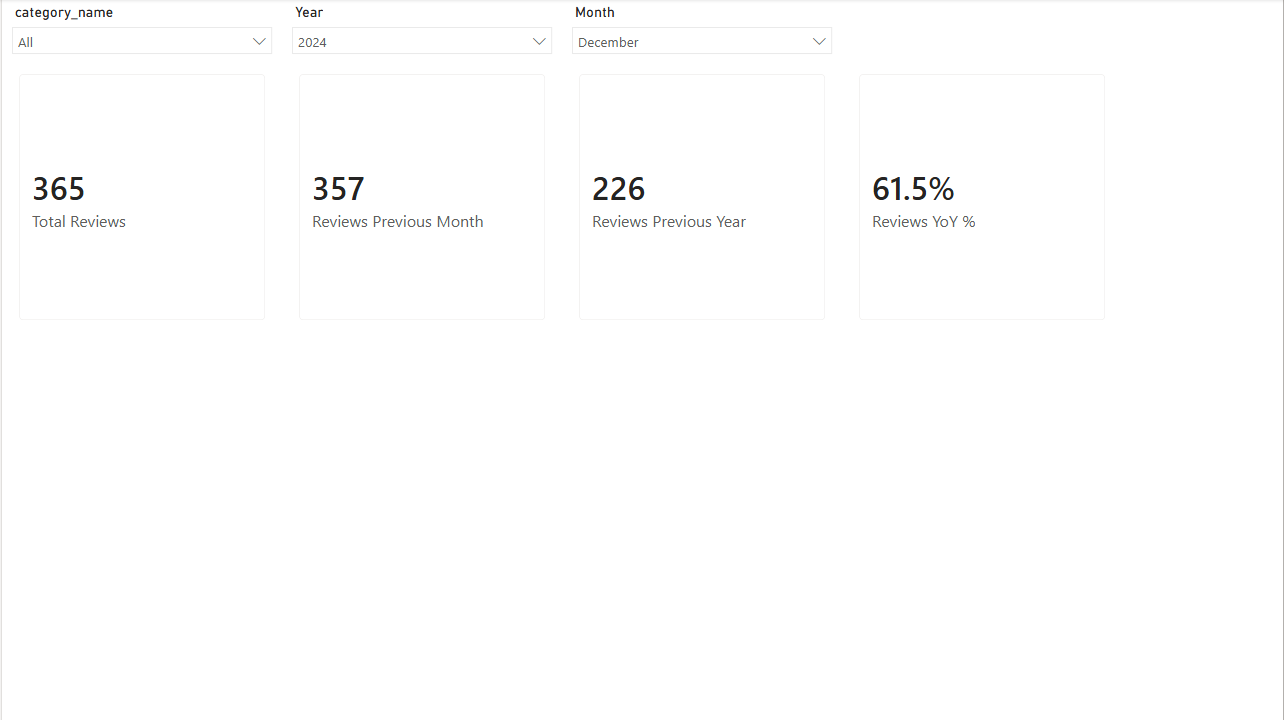

This screenshot's page, from the dashboard's own definition file:
{"tool":"powerbi","page":{"name":"Time Intelligence","canvas":[1280,720],"ordinal":1},"visuals":[{"type":"slicer","fields":{"Values":["dim_date.Year"]},"box":[279.8,0,280,280],"z":0},{"type":"slicer","fields":{"Values":["dim_date.Month"]},"box":[559.6,0,280,280],"z":1000},{"type":"slicer","fields":{"Values":["apps.category_name"]},"box":[0,0,280,280],"z":2000},{"type":"cardVisual","fields":{"Data":["apps.Reviews YoY %"]},"box":[839.3,58,280,280],"z":3000},{"type":"cardVisual","fields":{"Data":["apps.Reviews Previous Year"]},"box":[559.6,58,280,280],"z":4000},{"type":"cardVisual","fields":{"Data":["apps.Total Reviews"]},"box":[0,58,280,280],"z":5000},{"type":"cardVisual","fields":{"Data":["apps.Reviews Previous Month"]},"box":[279.8,58,280,280],"z":6000}]}

Visuals, with their boxes in screenshot pixels (x1, y1, x2, y2), scaled from the page's 1280x720 canvas onto the 1284x720 screenshot:
slicer - dim_date.Year: pyautogui.locateOnScreen(281, 0, 562, 280)
slicer - dim_date.Month: pyautogui.locateOnScreen(561, 0, 842, 280)
slicer - apps.category_name: pyautogui.locateOnScreen(0, 0, 281, 280)
cardVisual - apps.Reviews YoY %: pyautogui.locateOnScreen(842, 58, 1123, 338)
cardVisual - apps.Reviews Previous Year: pyautogui.locateOnScreen(561, 58, 842, 338)
cardVisual - apps.Total Reviews: pyautogui.locateOnScreen(0, 58, 281, 338)
cardVisual - apps.Reviews Previous Month: pyautogui.locateOnScreen(281, 58, 562, 338)
